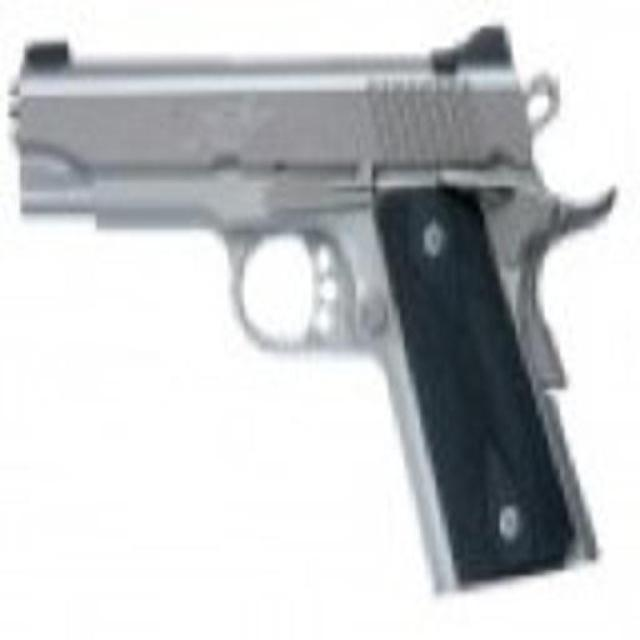pistol: (7, 31, 615, 596)
